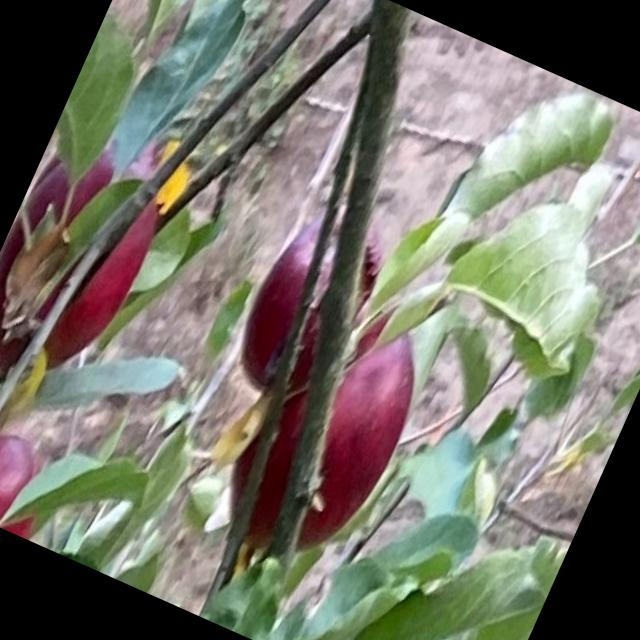Apples: (206, 285, 439, 582), (0, 134, 174, 409), (222, 204, 388, 414), (0, 421, 63, 539)
